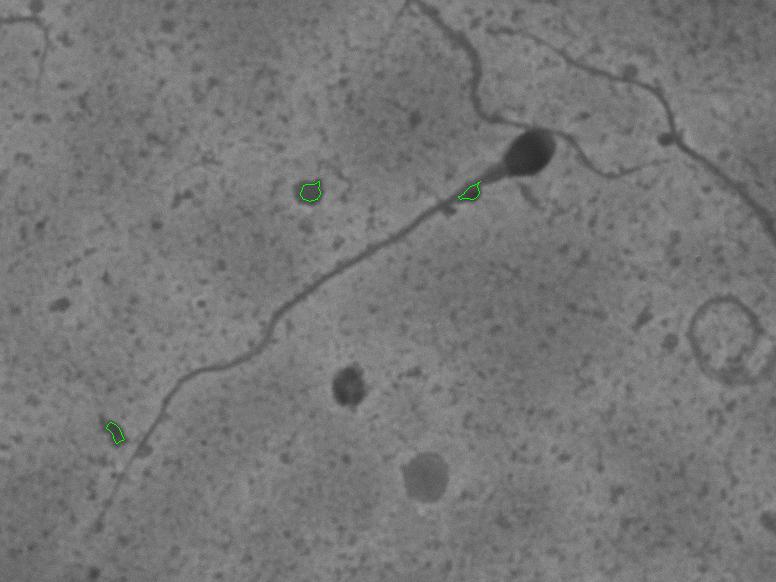Normal: (93, 111, 574, 535)
